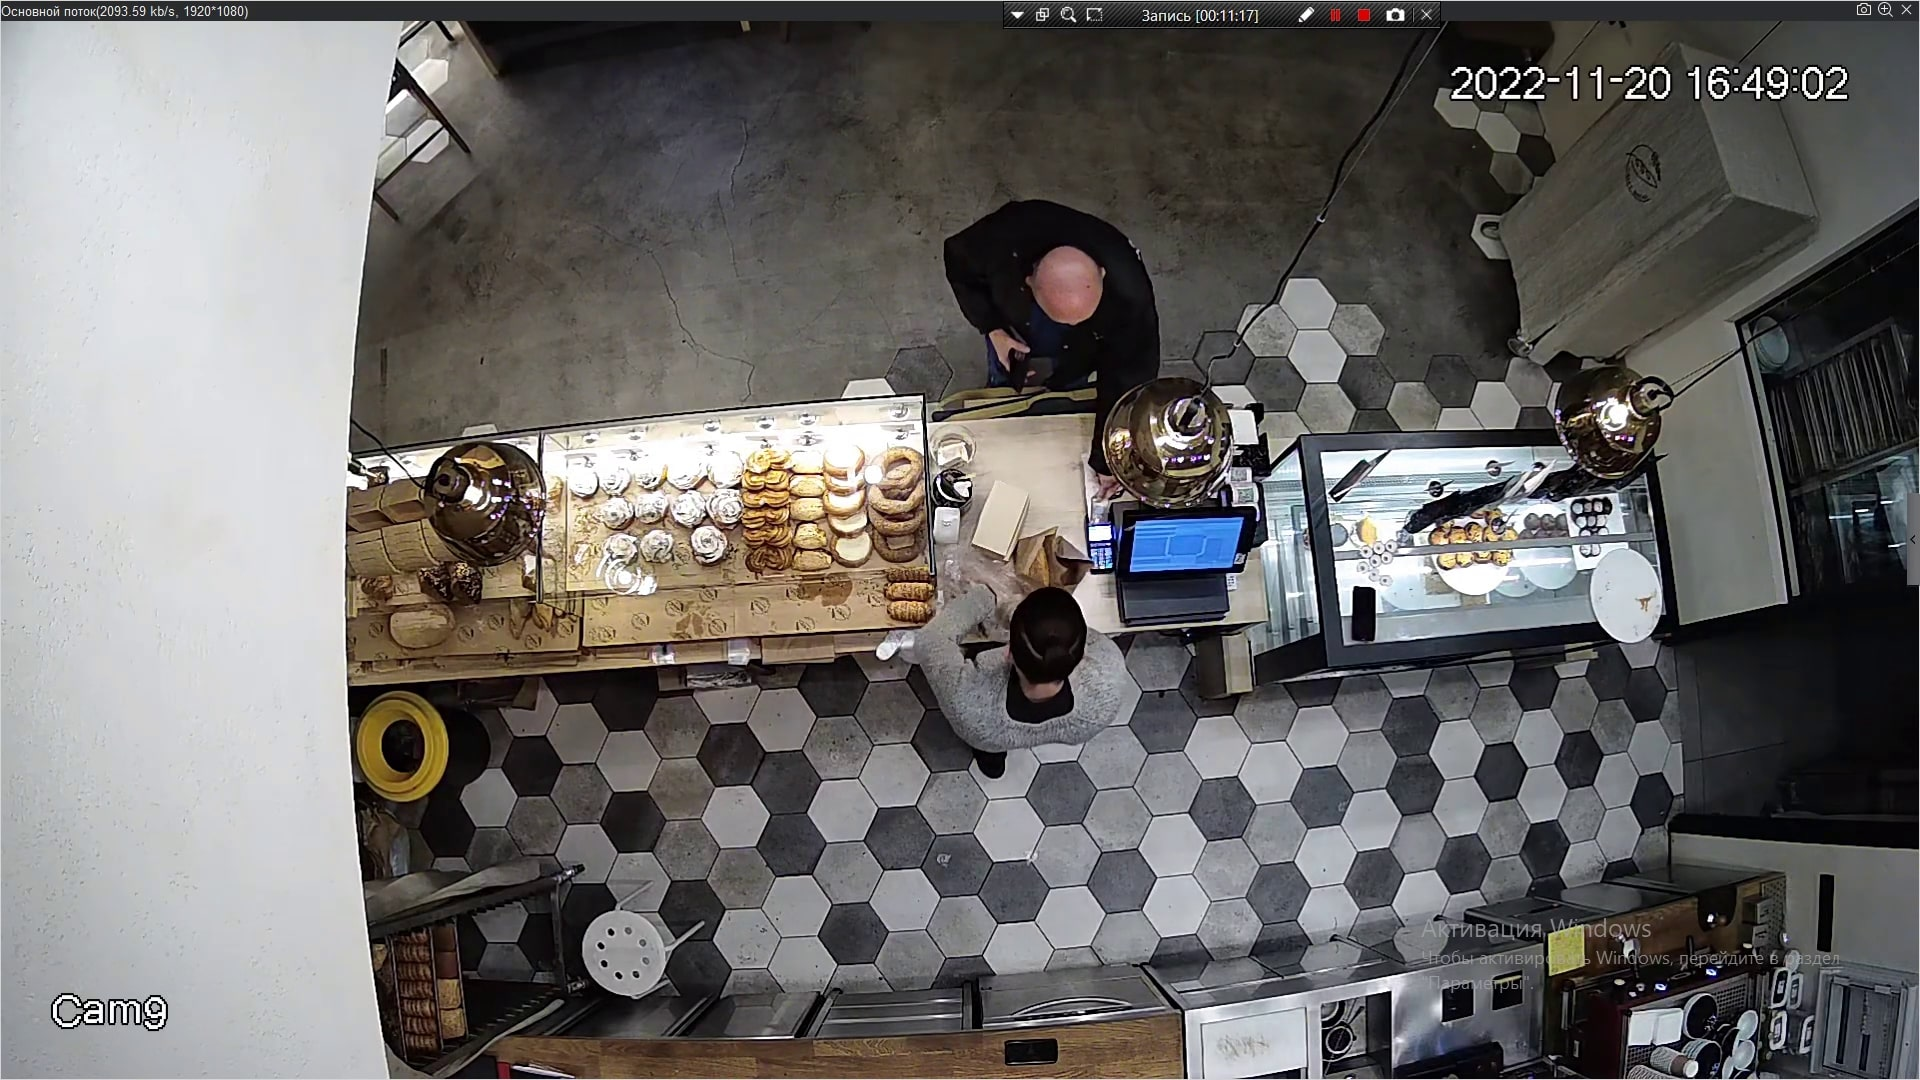barcounter: (375, 404, 1697, 687)
pack: (1012, 536, 1087, 607), (976, 476, 1031, 565)
person: (932, 202, 1182, 402)
terminal: (1079, 469, 1121, 575)
